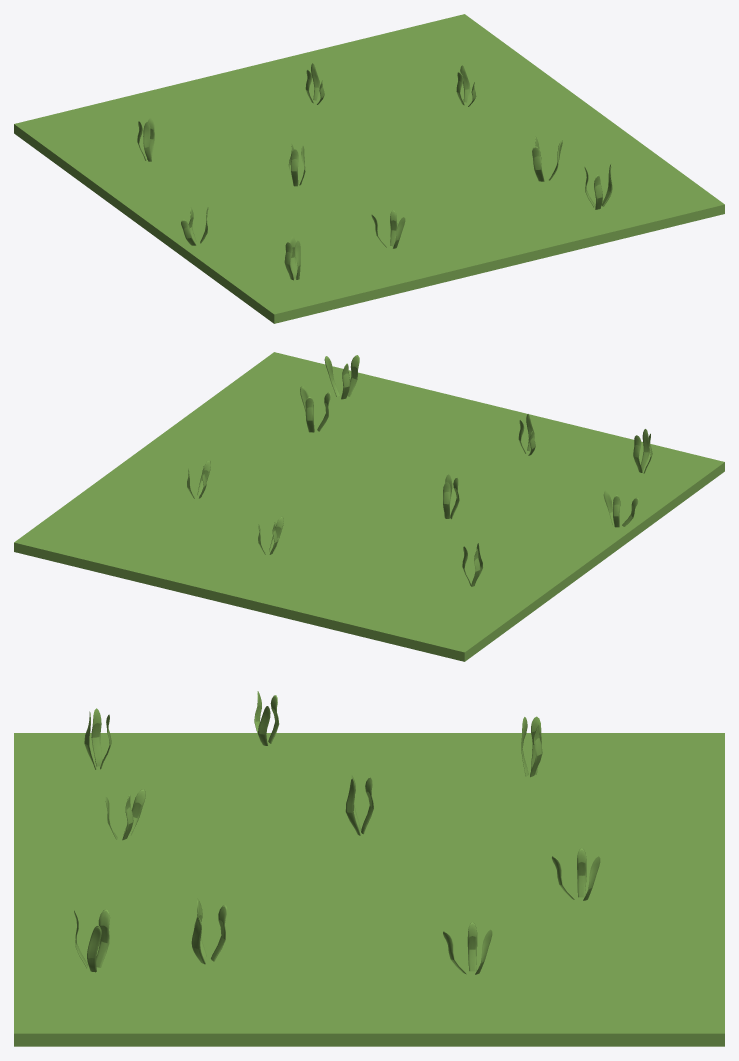
File: grass.fbx
The picture shows the model from 3 angles, top to bottom: view 1: azimuth 30°, elevation 25°; view 2: azimuth 150°, elevation 25°; view 3: azimuth 270°, elevation 25°; orthographic projection. The views are drawn at different scales.
Visible parts, largest first — view 1: Grass; view 2: Grass; view 3: Grass.
Boxes of the visible parts, bbox=[...] form: Grass: bbox=[14, 14, 724, 323]; Grass: bbox=[14, 352, 724, 661]; Grass: bbox=[14, 691, 724, 1046].
Size of the model in its own units: 10.08 by 10 by 1.07.
